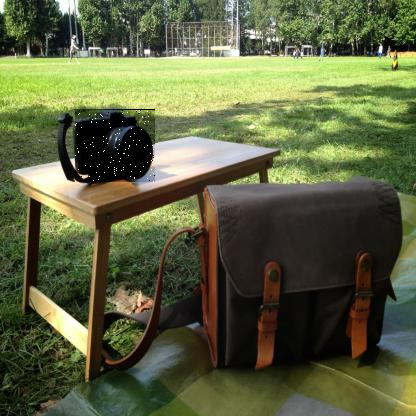Camera: (76, 110, 157, 184)
